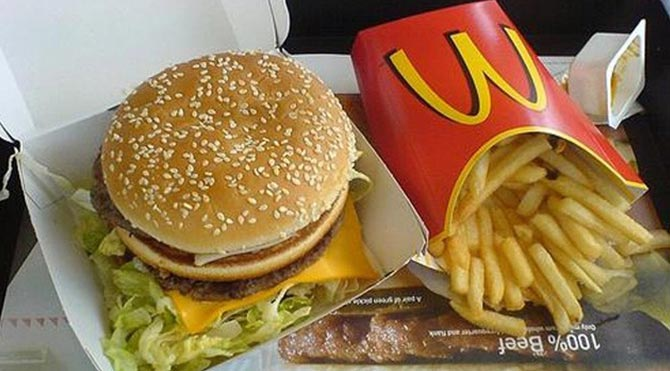mcdonalds: (377, 22, 553, 128)
